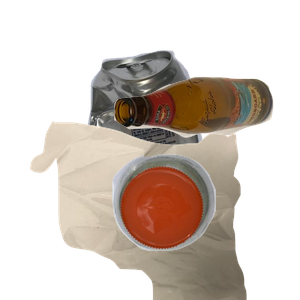glass: (111, 74, 300, 204)
metal: (85, 48, 300, 228)
plastic: (110, 152, 300, 300)
trash: (28, 120, 267, 300)
